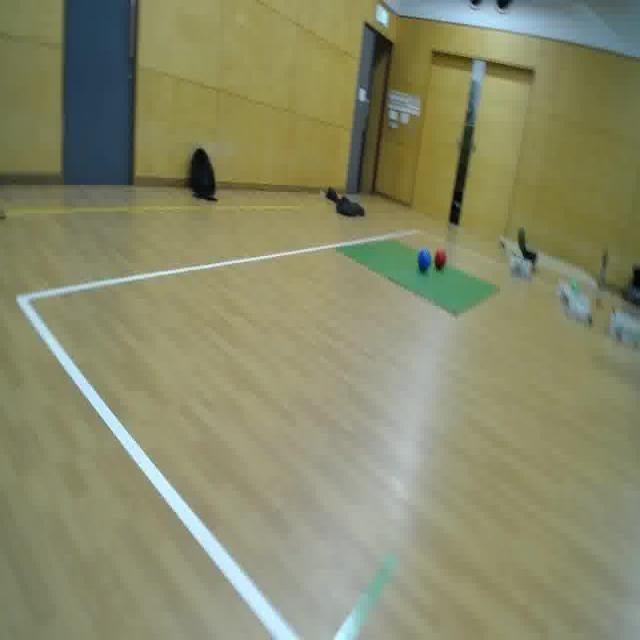blue_ball: (416, 246, 433, 275)
red_ball: (432, 247, 448, 272)
